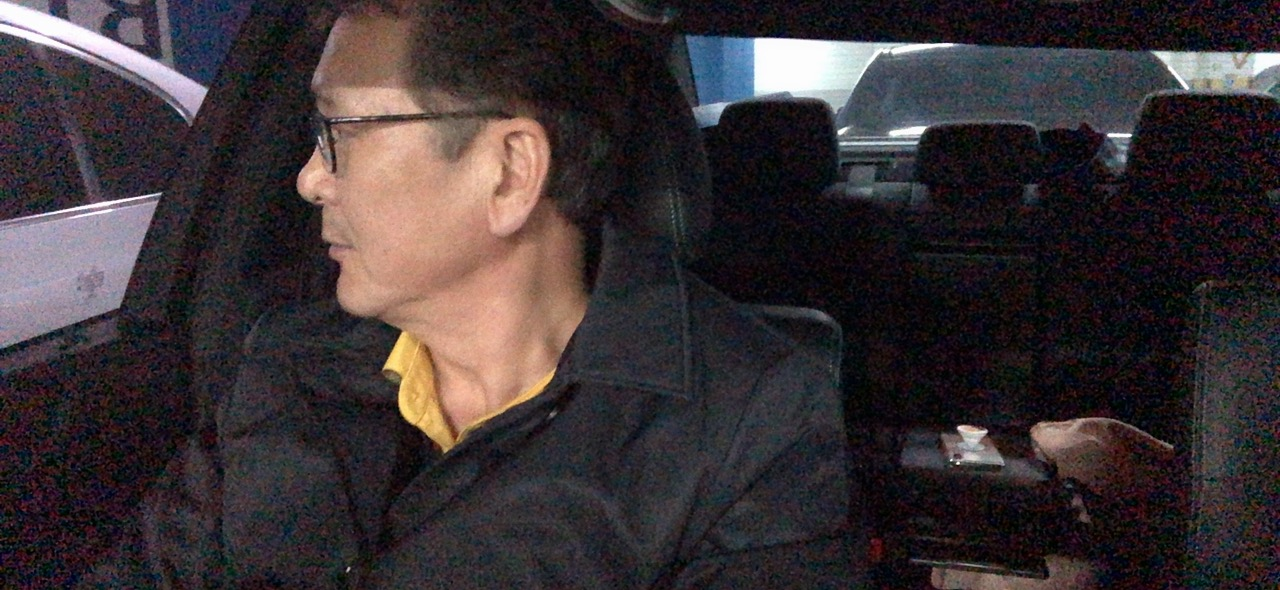left: (130, 1, 845, 590)
